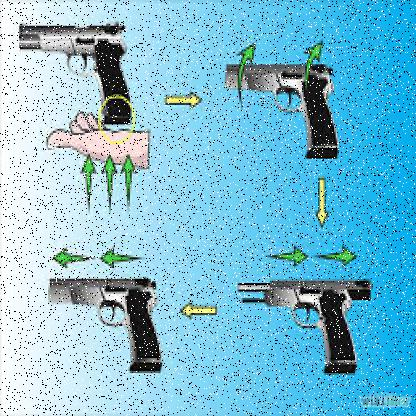pistol: (13, 17, 141, 129), (241, 277, 373, 376), (225, 56, 341, 165), (47, 272, 164, 377)
